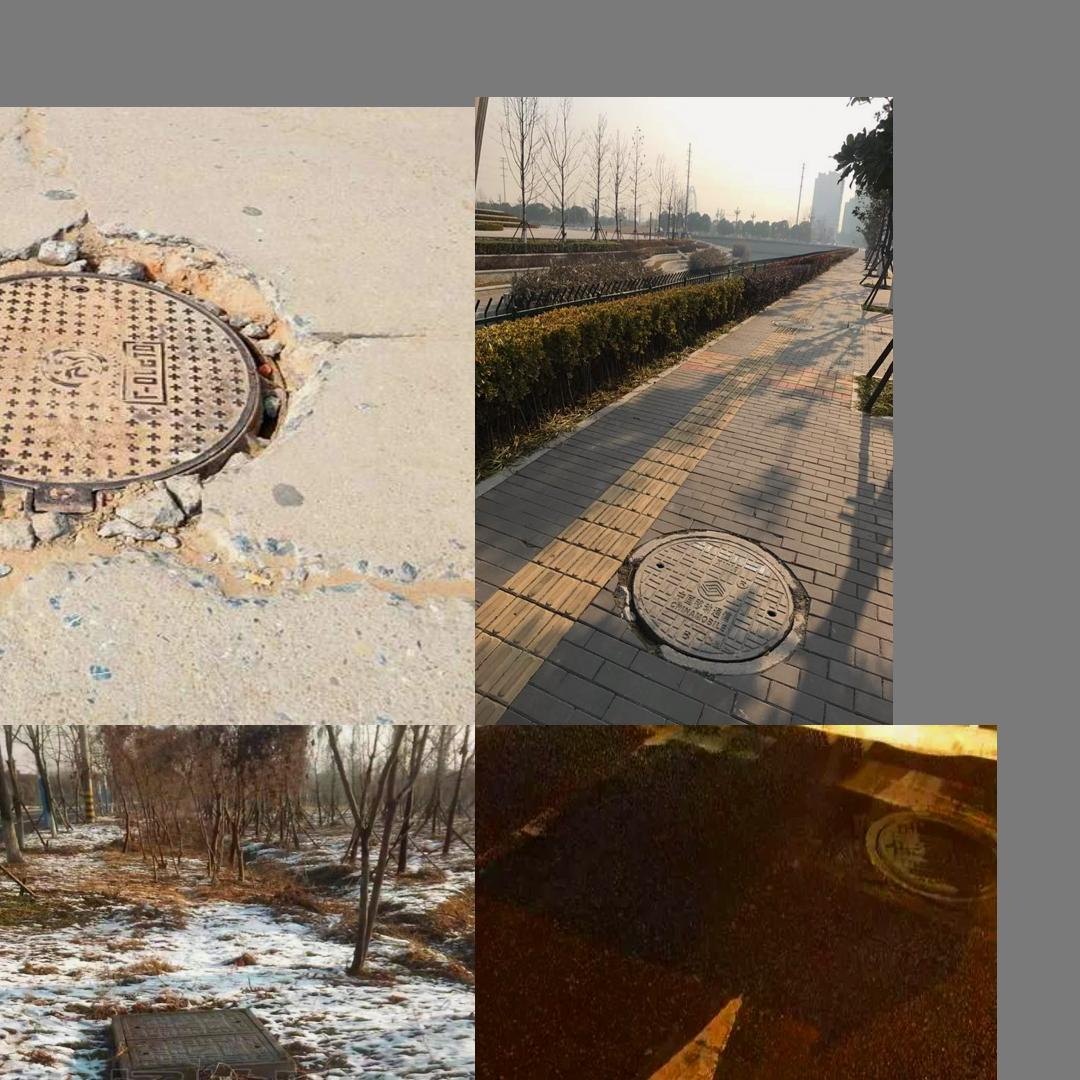circle: (0, 217, 352, 560), (615, 529, 812, 674), (103, 1007, 308, 1080), (512, 1062, 947, 1080)
